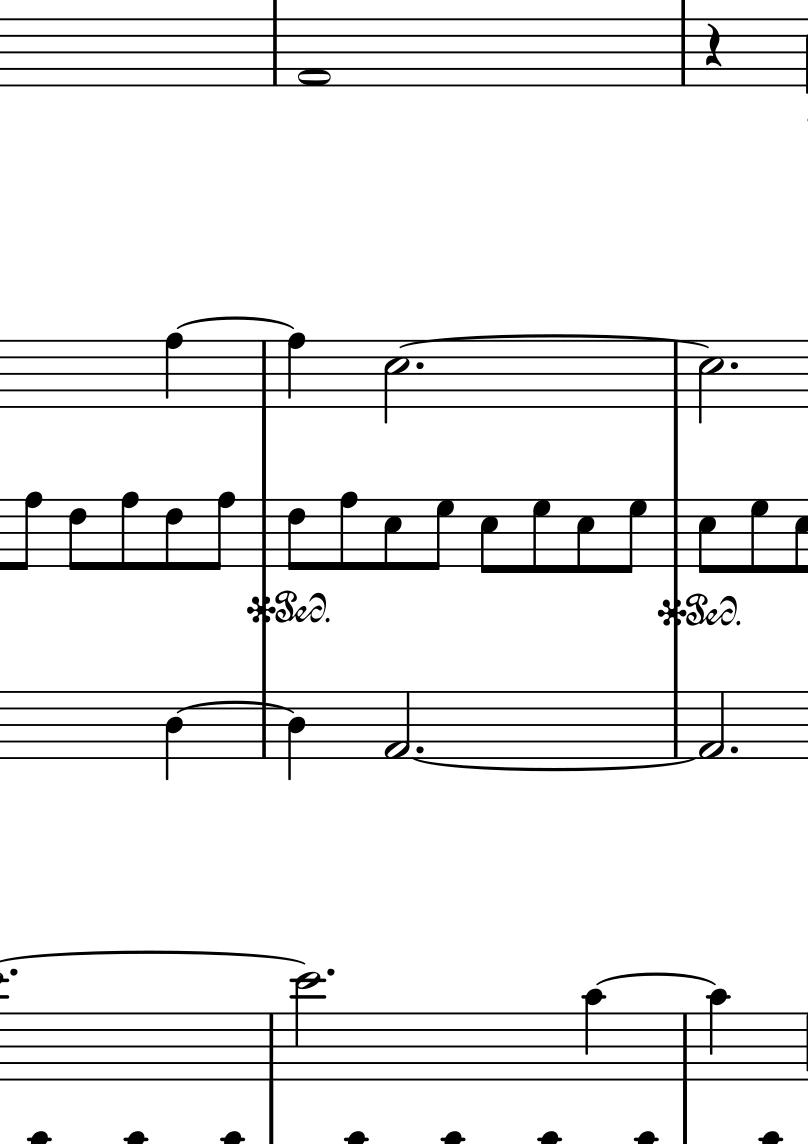1_-1: (297, 16, 332, 90)
2_1: (697, 690, 728, 761), (383, 690, 413, 762)
2_12: (294, 970, 324, 1083)
2_5: (383, 339, 411, 426), (697, 339, 725, 425)
4_10: (706, 988, 731, 1083), (582, 988, 606, 1082)
4_4: (286, 689, 308, 783), (163, 691, 184, 782)
4_8: (164, 331, 185, 410), (286, 331, 307, 410)
8_5: (479, 498, 500, 576), (575, 498, 596, 576), (697, 498, 718, 576), (382, 498, 403, 573)
8_6: (67, 497, 89, 573), (286, 497, 308, 571), (164, 497, 185, 572)
8_7: (619, 498, 649, 574), (426, 498, 456, 571), (748, 498, 771, 576), (531, 498, 553, 574)
8_8: (11, 490, 45, 573), (206, 490, 237, 572), (119, 489, 142, 572), (338, 490, 360, 572)
Rests4: (703, 21, 724, 70)
Single_barline: (254, 498, 274, 568), (667, 499, 687, 567), (262, 1012, 282, 1079), (256, 341, 276, 408), (255, 692, 275, 758), (666, 345, 686, 409), (674, 19, 693, 86), (266, 19, 285, 86), (677, 1013, 695, 1079), (668, 692, 685, 758)
Slur: (399, 333, 714, 351), (413, 760, 700, 772), (176, 698, 305, 717), (595, 971, 719, 989), (175, 316, 297, 330)
dot: (727, 358, 741, 375), (413, 359, 426, 374), (728, 743, 741, 756), (325, 966, 337, 980), (414, 743, 425, 755), (8, 966, 19, 978)
